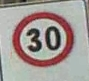limite 30: (10, 9, 75, 67)
